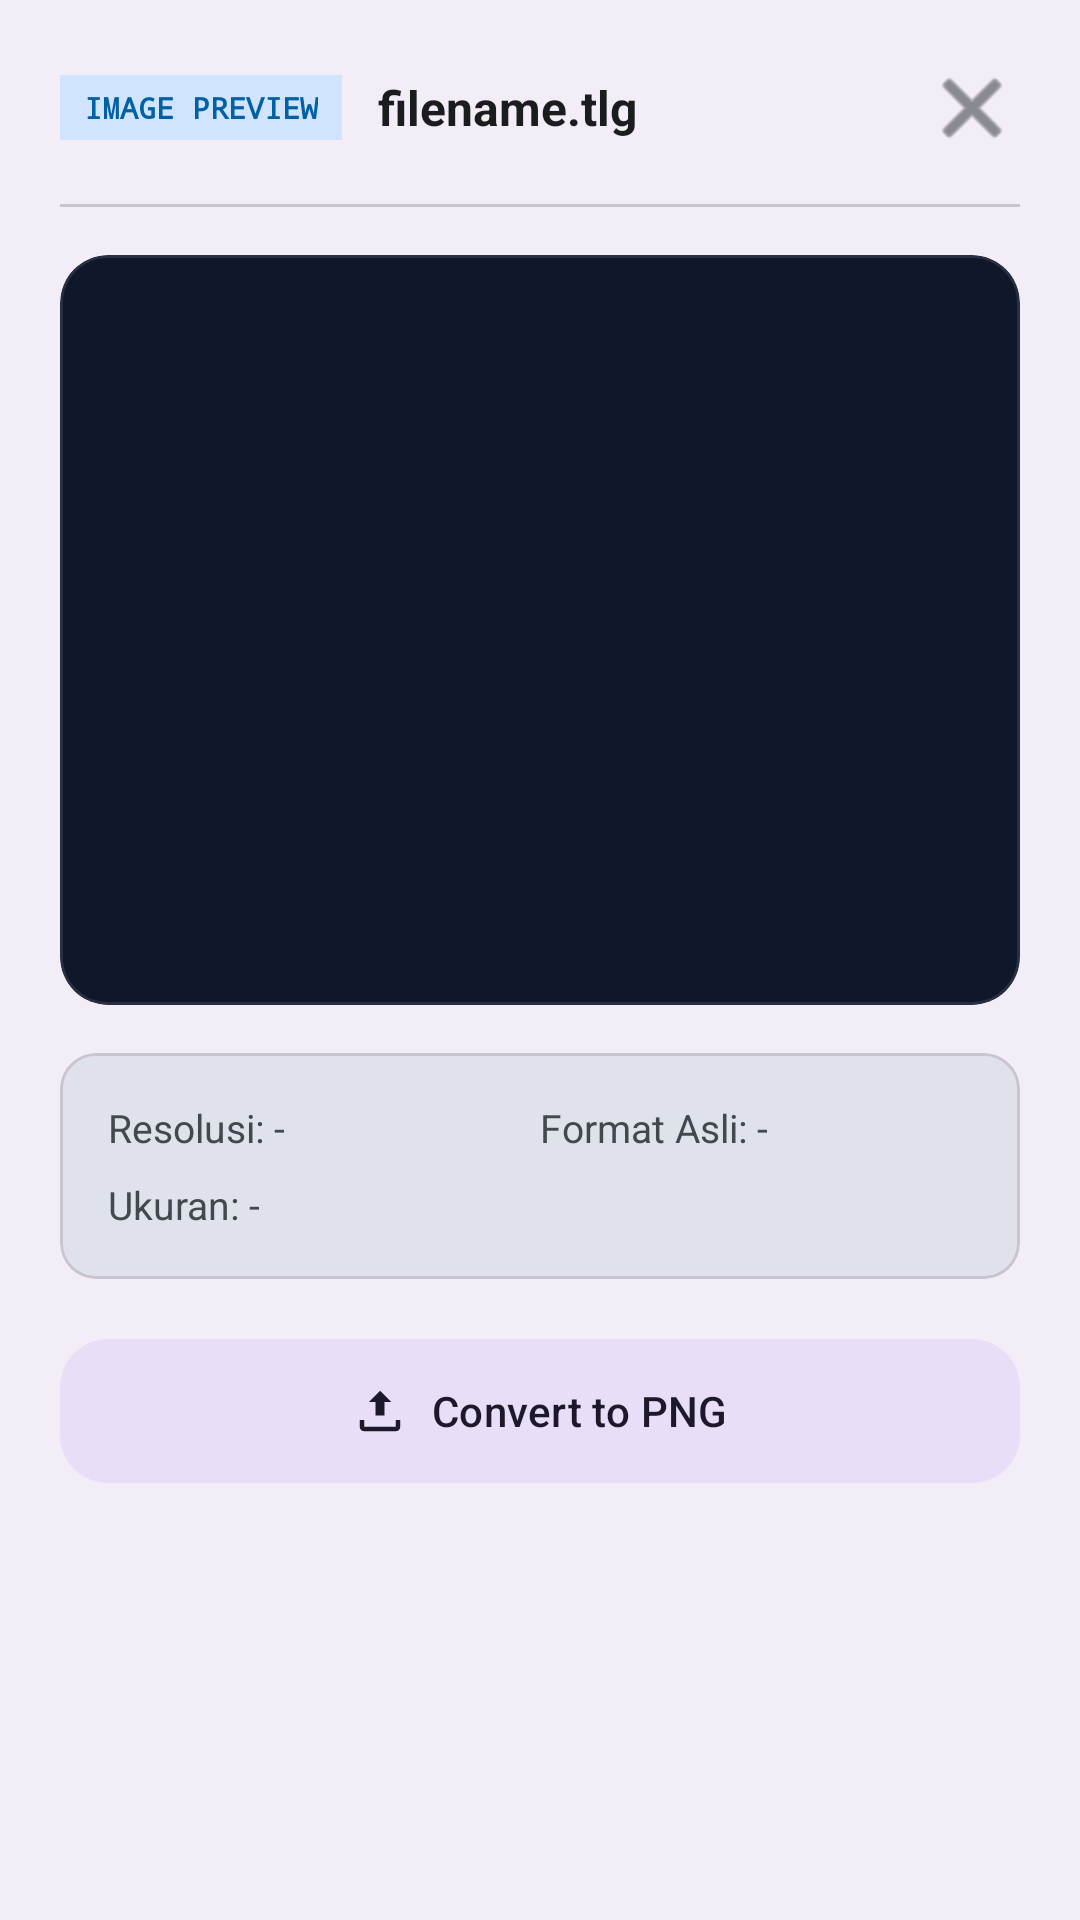

Icons on this 1080w x 1920h Android screen, each with the point to tap as [x,y]:
close clear cancel: [972,108]
